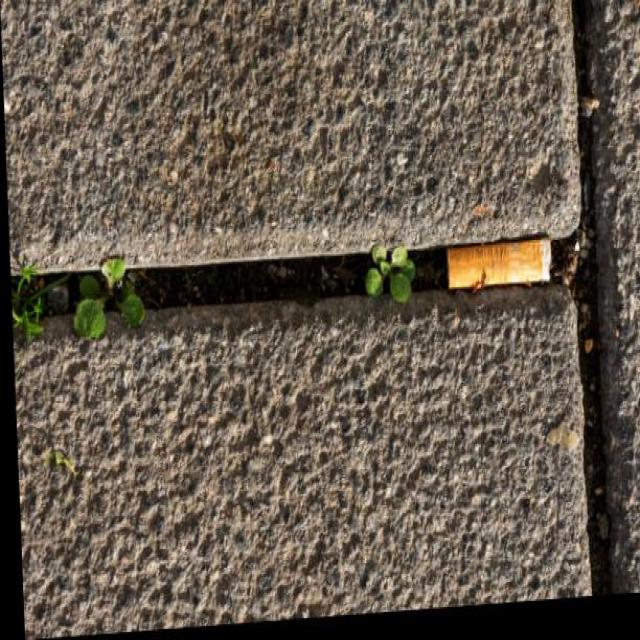cigarette: (442, 237, 554, 304)
